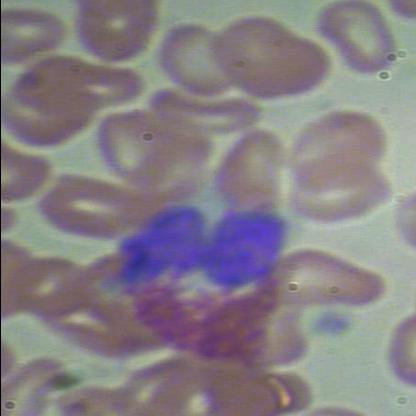Platelets: (310, 311, 352, 339)
RBC: (205, 13, 333, 105), (268, 239, 385, 319), (286, 152, 390, 233), (284, 104, 388, 184), (33, 173, 135, 244), (316, 0, 408, 76), (150, 20, 236, 99), (199, 128, 280, 210), (0, 84, 96, 152), (29, 58, 151, 111), (86, 110, 166, 186), (144, 370, 272, 416), (145, 88, 265, 136), (72, 0, 156, 67), (5, 258, 82, 318), (1, 8, 65, 68), (377, 308, 415, 392)
WBC: (108, 206, 294, 364)
